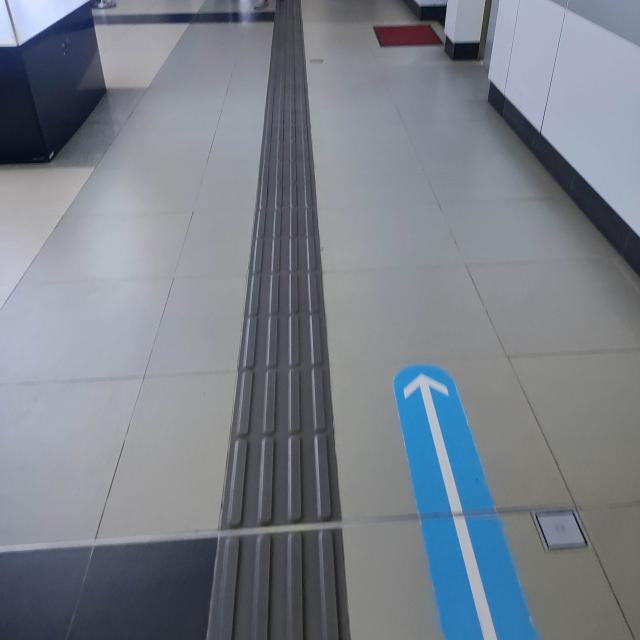lurus: (209, 31, 341, 638)
